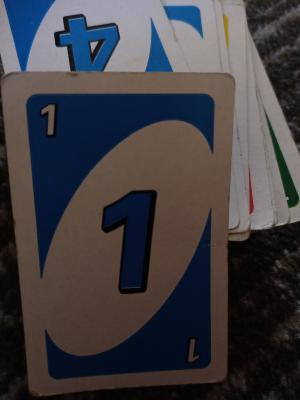blue: (33, 93, 222, 374)
num_1: (27, 99, 72, 141), (176, 326, 211, 366)
